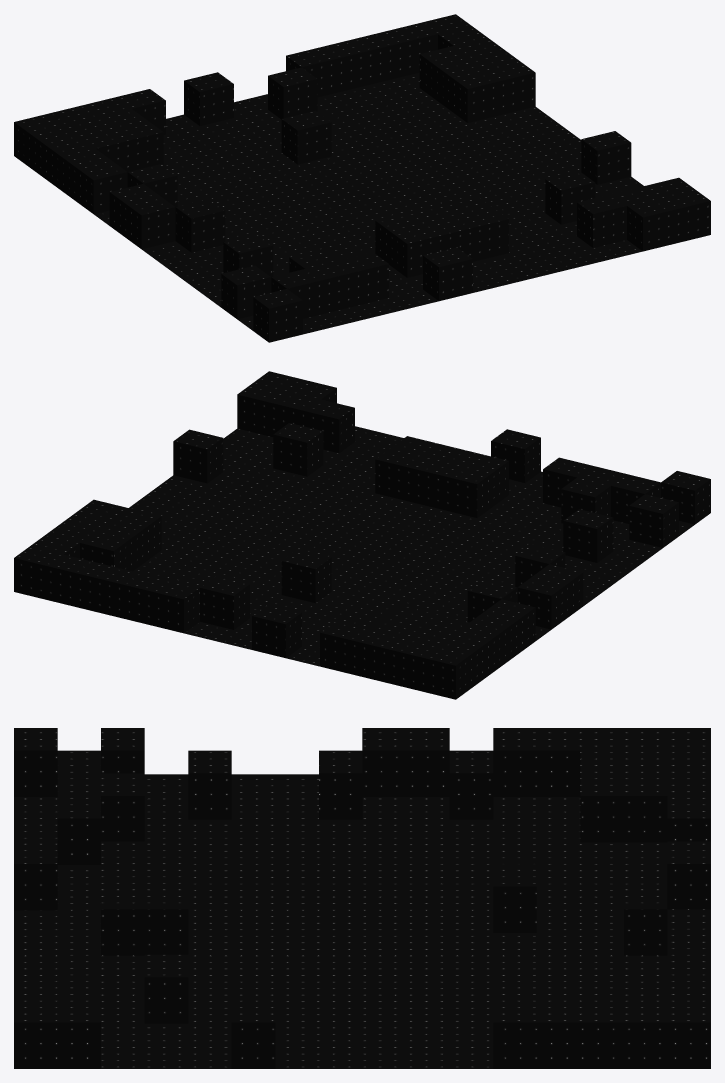
File: floow test.FBX
The picture shows the model from 3 angles, top to bottom: view 1: azimuth 30°, elevation 25°; view 2: azimuth 150°, elevation 25°; view 3: azimuth 270°, elevation 25°; orthographic projection. The views are drawn at different scales.
Parts seen in each view (by area): view 1: Plane001; view 2: Plane001; view 3: Plane001.
Boxes of the visible parts, x1,y1,x2,y2 form: Plane001: (14,14,710,342); Plane001: (14,371,710,699); Plane001: (14,728,710,1068).
Size of the model in its own units: 20000 by 1470 by 20000.
